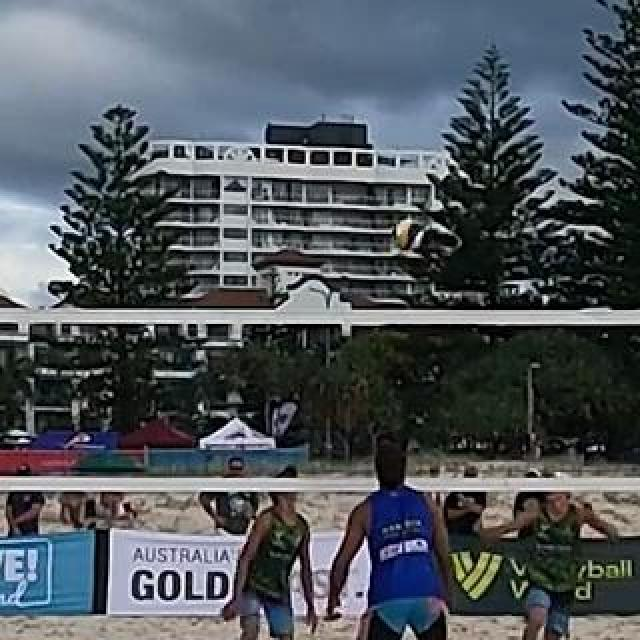volleyball: (395, 223, 423, 251)
